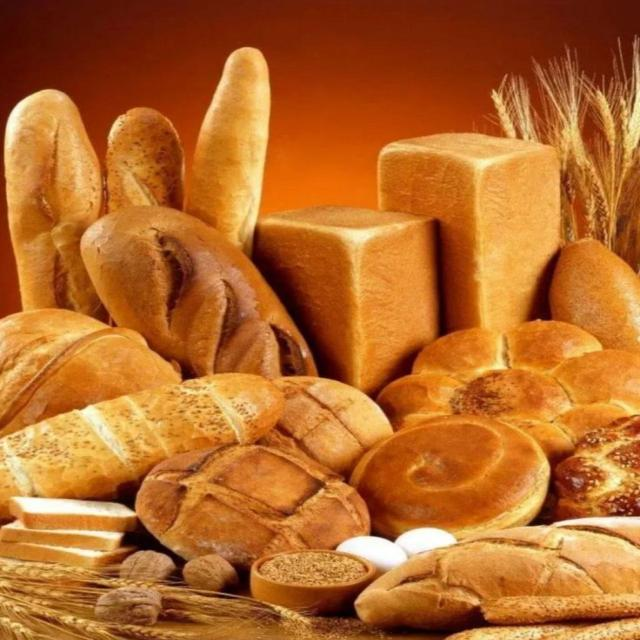bread: (0, 374, 283, 518), (82, 207, 315, 377), (378, 321, 639, 461), (379, 134, 560, 331), (255, 207, 438, 394), (356, 519, 639, 629), (136, 445, 369, 567), (350, 416, 550, 538), (5, 90, 105, 319), (0, 309, 179, 435), (187, 48, 270, 255), (260, 377, 393, 475), (550, 239, 639, 351), (554, 416, 639, 519), (106, 108, 184, 212), (482, 594, 639, 624), (9, 497, 137, 532), (0, 521, 123, 550), (0, 542, 135, 567), (447, 623, 585, 639)
egg raw: (337, 536, 407, 573), (395, 527, 457, 557)
